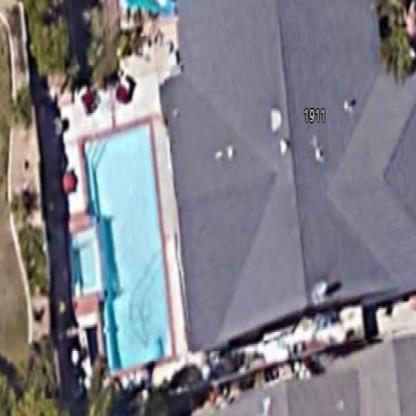pool: (71, 110, 183, 380)
